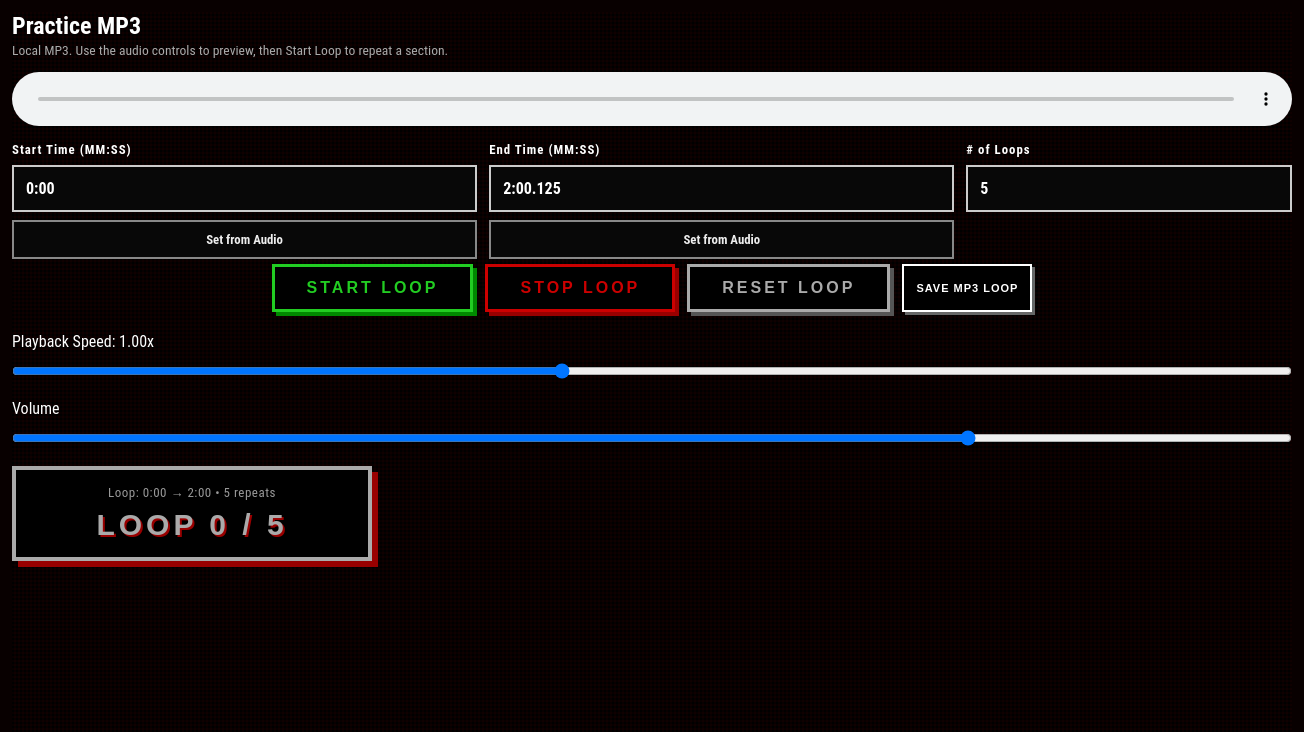
Test case: MP3 loop controls › captures current position, changes rate/volume and validates invalid input
Click the button "Set from Audio" below "Start Time (MM:SS)" at [245, 240], box [12,220,477,259]
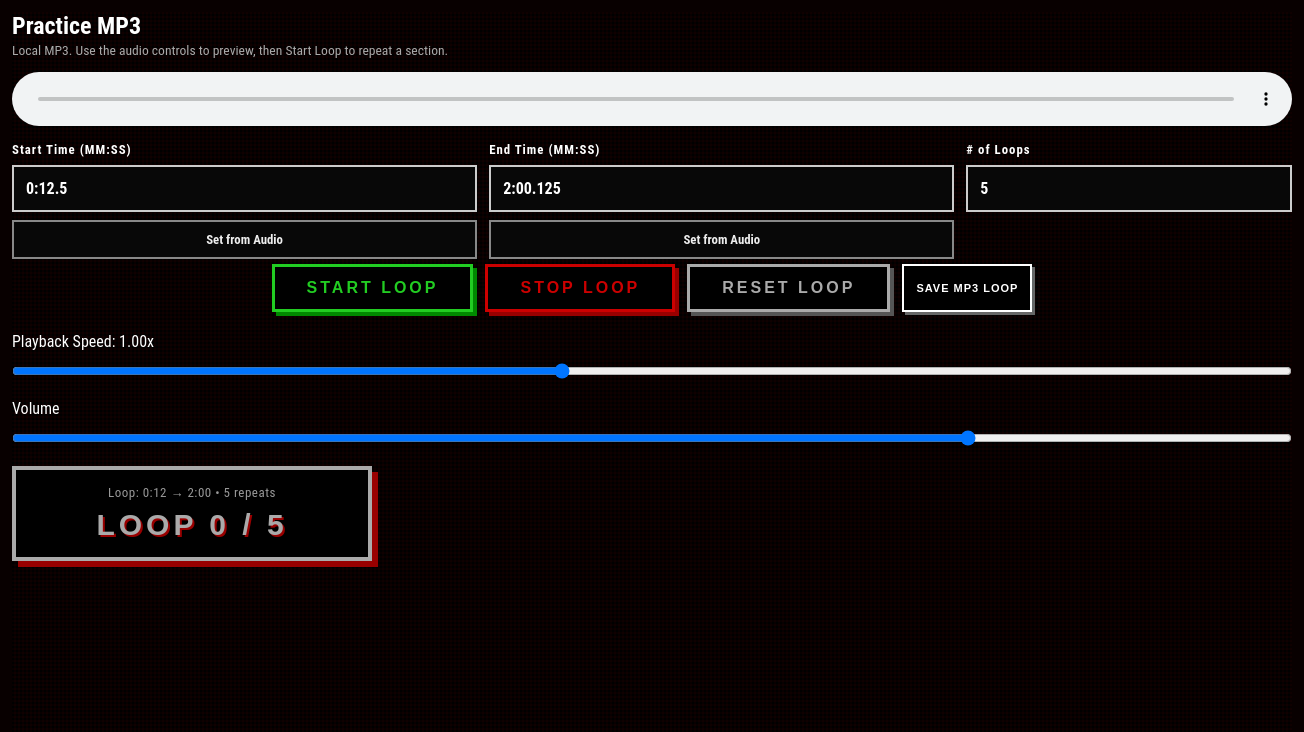
Now the field named "MP3 start time" holds "0:12.5", box [12,165,477,212]
Set the slider named "MP3 playback speed" to "0.5" at [201, 371], box [12,363,1292,379]
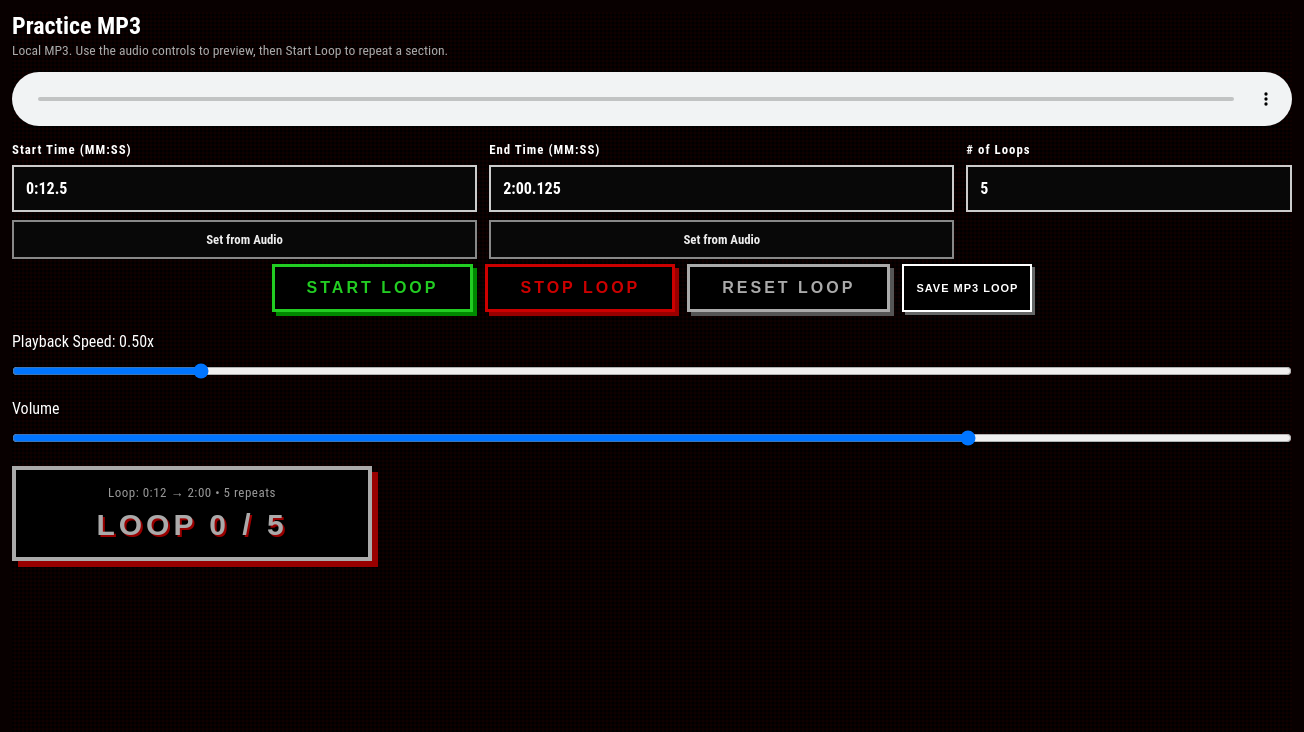
Set the slider named "MP3 volume" to "30" at [399, 438], box [12,430,1292,446]
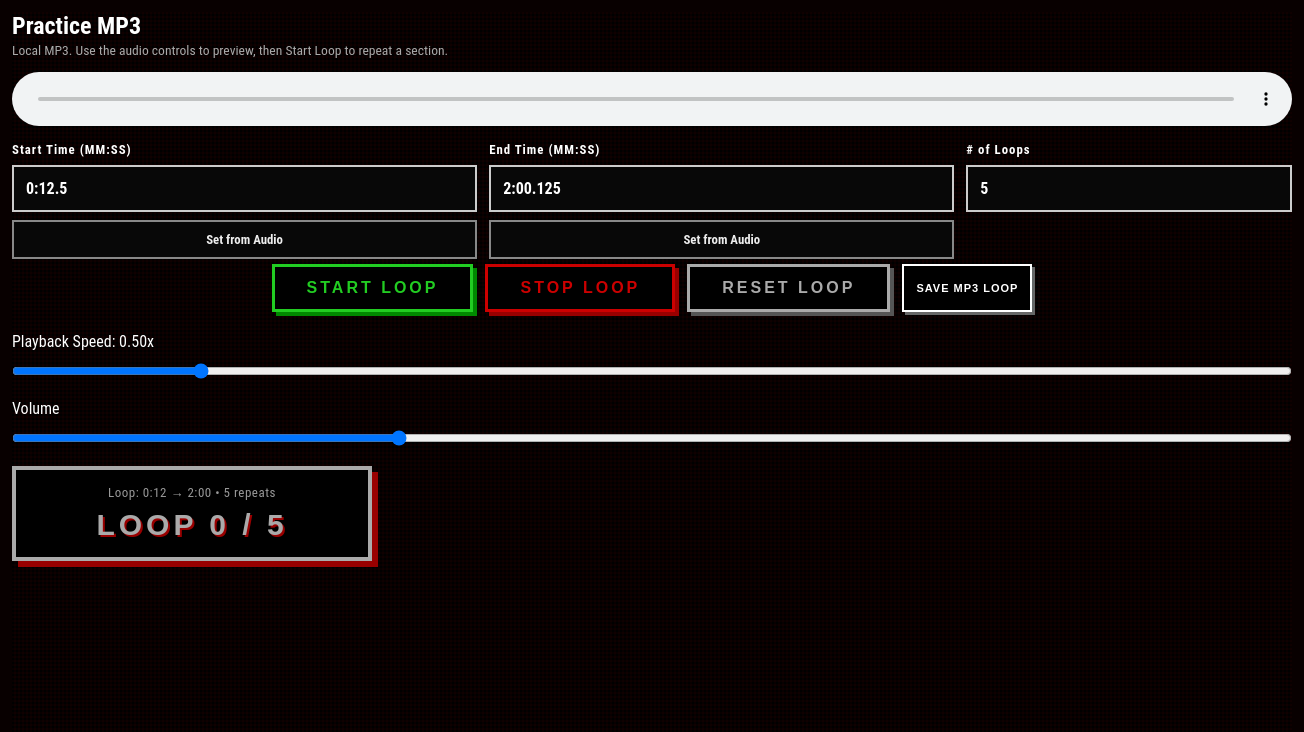
Replace the text in the field named "MP3 end time" with "junk" at [722, 189], box [489,165,954,212]
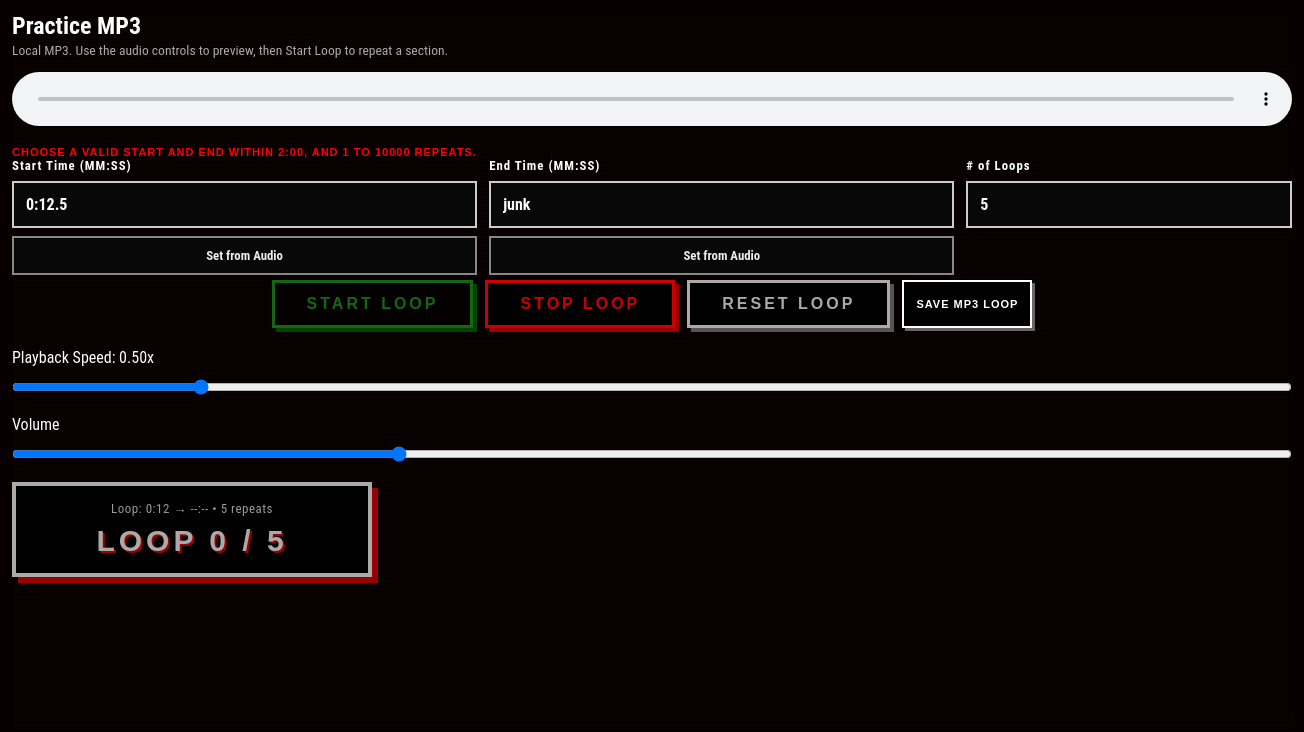
Now the button "Start Loop" is disabled, box [272,280,474,328]
